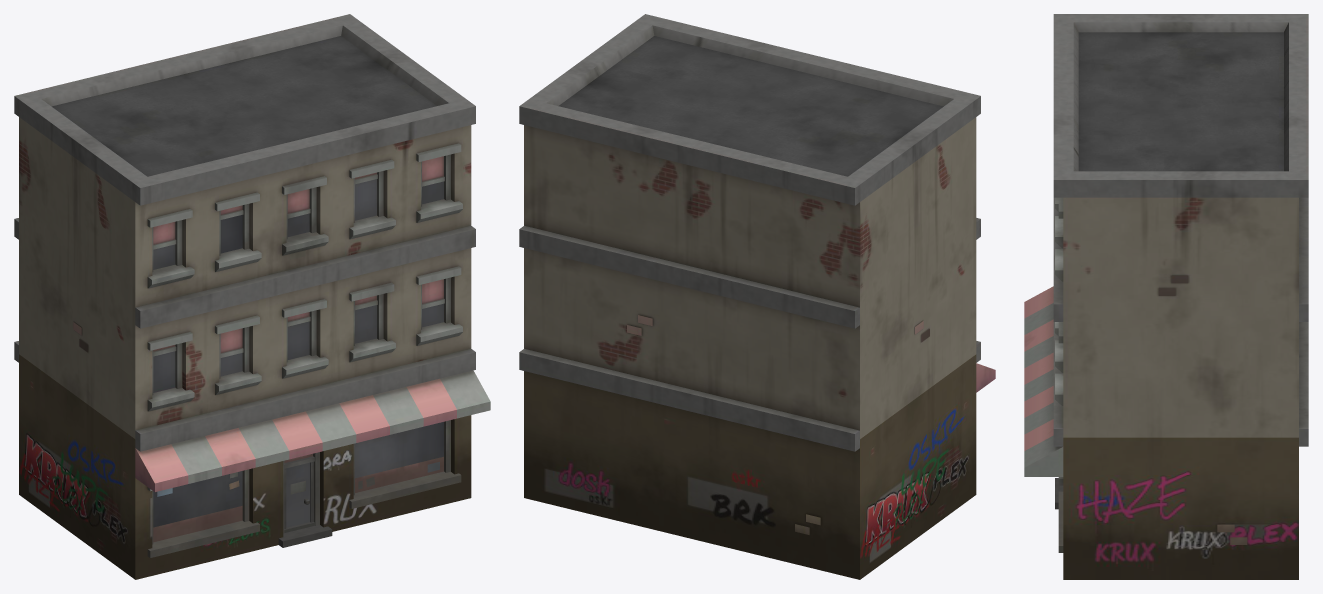
The model's file is building_E.glb.
3 renders of one model, left to right at view 1: azimuth 30°, elevation 25°; view 2: azimuth 150°, elevation 25°; view 3: azimuth 270°, elevation 25°, orthographic.
Parts seen in each view (by area): view 1: building_E_withoutBase; view 2: building_E_withoutBase; view 3: building_E_withoutBase.
Part boxes in pixels (x1=…): building_E_withoutBase: x1=14, y1=14, x2=490, y2=579; building_E_withoutBase: x1=519, y1=14, x2=995, y2=579; building_E_withoutBase: x1=1024, y1=14, x2=1308, y2=579.
Size of the model in its own units: 2.01 by 2.25 by 1.45.
2 materials, 2 textured.
